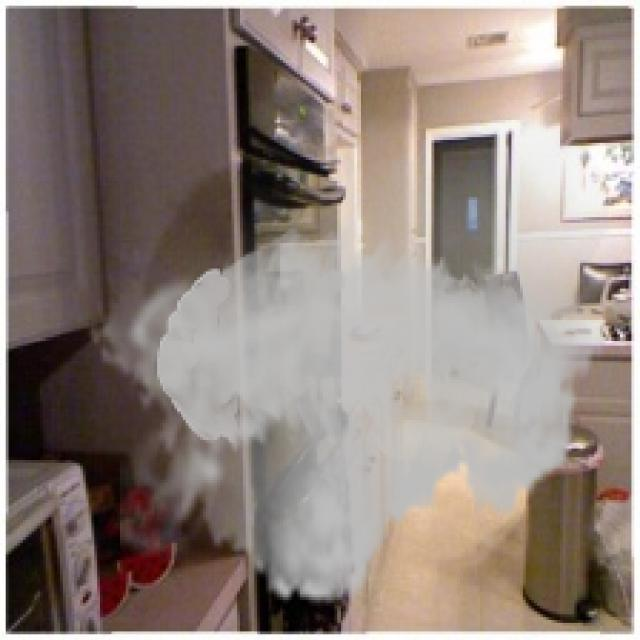Smoke: (85, 71, 620, 626)
